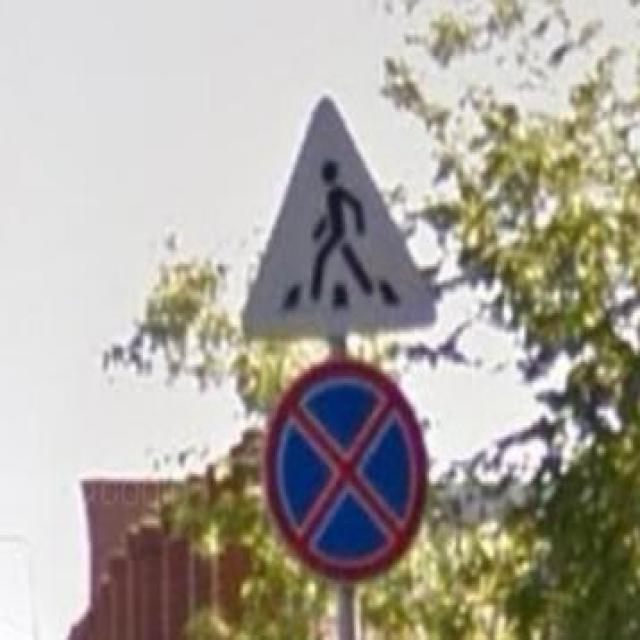Przejscie dla pieszych: (240, 94, 438, 336)
Zakaz zatrzymywania sie: (263, 355, 431, 584)
